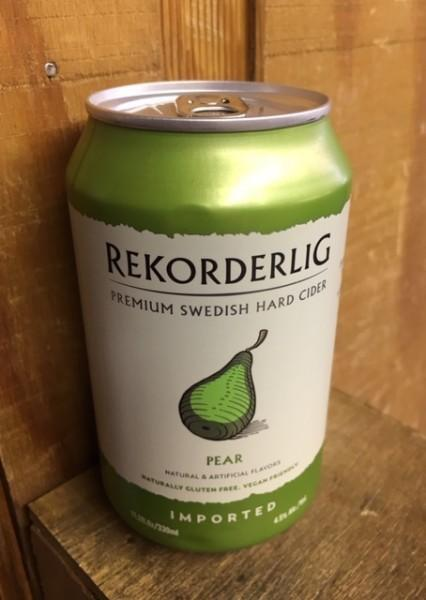metal: (64, 79, 356, 550)
